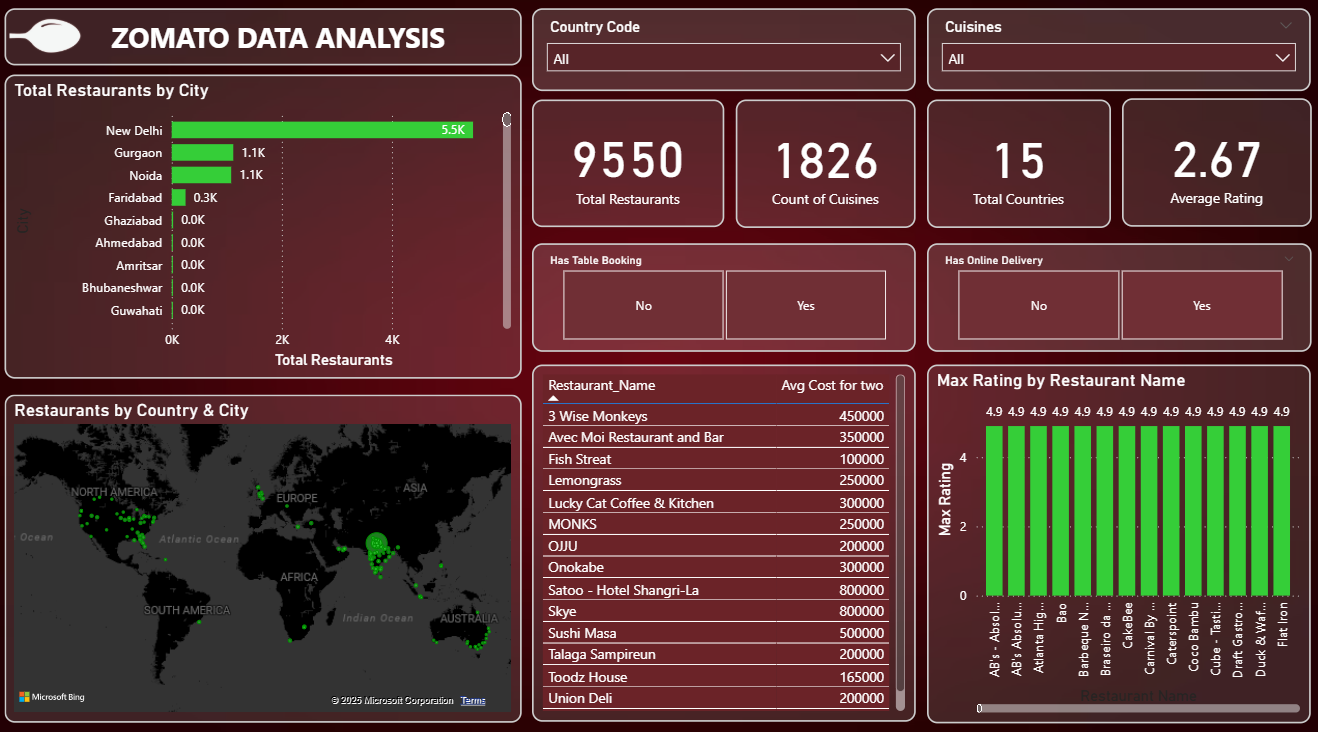

What the dashboard file says about the page in this screenshot:
{"tool":"powerbi","page":{"name":"Page 1","canvas":[1280,720],"ordinal":0},"visuals":[{"type":"textbox","box":[6.9,15.1,499.5,54.9],"z":0},{"type":"map","title":"Restaurants by Country &  City","fields":{"Category":["Zomato.City"],"Size":["CountNonNull(Zomato.Restaurant_ID)"]},"box":[6.9,388.3,499.5,317],"z":1000},{"type":"barChart","fields":{"Category":["Zomato.City"],"Y":["Zomato.Total Restaurants"]},"box":[6.9,79.6,499.5,293.7],"z":2000},{"type":"card","fields":{"Values":["Zomato.Total Restaurants"]},"box":[516.4,103.8,185.8,123.1],"z":3000},{"type":"card","fields":{"Values":["Count(Zomato.Cuisines)"]},"box":[713,103.8,173.7,124.3],"z":4000},{"type":"card","fields":{"Values":["Avg(Zomato.Rating)"]},"box":[1085.8,102.5,183.4,124.3],"z":5000},{"type":"card","fields":{"Values":["Count(Zomato.Country_Code)"]},"box":[897.6,103.8,177.3,124.3],"z":6000},{"type":"slicer","fields":{"Values":["Zomato.Country_Code"]},"box":[516.4,15.7,370.4,79.6],"z":7000},{"type":"slicer","fields":{"Values":["Zomato.Cuisines"]},"box":[897.6,15.7,370.4,79.6],"z":8000},{"type":"slicer","fields":{"Values":["Zomato.Has_Table_Booking"]},"box":[516.4,242.5,370.4,105],"z":9000},{"type":"slicer","fields":{"Values":["Zomato.Has_Online_Delivery"]},"box":[897.6,242.5,371.6,105],"z":10000},{"type":"clusteredColumnChart","fields":{"Category":["Zomato.Restaurant_Name"],"Y":["Max(Zomato.Rating)"]},"box":[897.6,359.5,370.4,346.2],"z":11000},{"type":"tableEx","fields":{"Values":["Zomato.Restaurant_Name","Zomato.Average_Cost_for_two"]},"box":[516.4,359.5,370.4,345],"z":12000},{"type":"image","box":[7.2,2.4,79.6,79.6],"z":12001}]}

Visuals, with their boxes in screenshot pixels (x1, y1, x2, y2), scaled from the page's 1280x720 canvas onto the 1318x732 screenshot:
textbox: l=7, t=15, r=521, b=71
"Restaurants by Country &  City" map: l=7, t=395, r=521, b=717
barChart - Zomato.City x Zomato.Total Restaurants: l=7, t=81, r=521, b=380
card - Zomato.Total Restaurants: l=532, t=106, r=723, b=231
card - Count(Zomato.Cuisines): l=734, t=106, r=913, b=232
card - Avg(Zomato.Rating): l=1118, t=104, r=1307, b=231
card - Count(Zomato.Country_Code): l=924, t=106, r=1107, b=232
slicer - Zomato.Country_Code: l=532, t=16, r=913, b=97
slicer - Zomato.Cuisines: l=924, t=16, r=1306, b=97
slicer - Zomato.Has_Table_Booking: l=532, t=247, r=913, b=353
slicer - Zomato.Has_Online_Delivery: l=924, t=247, r=1307, b=353
clusteredColumnChart - Zomato.Restaurant_Name x Max(Zomato.Rating): l=924, t=365, r=1306, b=717
tableEx - Zomato.Restaurant_Name x Zomato.Average_Cost_for_two: l=532, t=365, r=913, b=716
image: l=7, t=2, r=89, b=83
